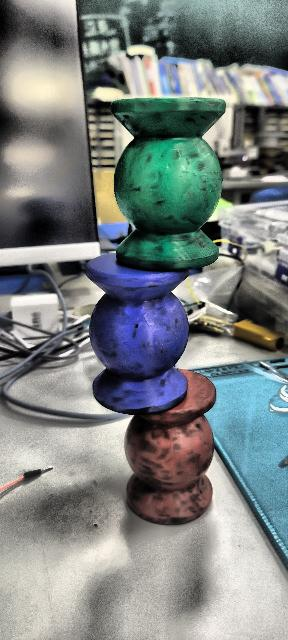blue: (86, 252, 192, 414)
green: (105, 94, 226, 272)
red: (123, 367, 218, 525)
